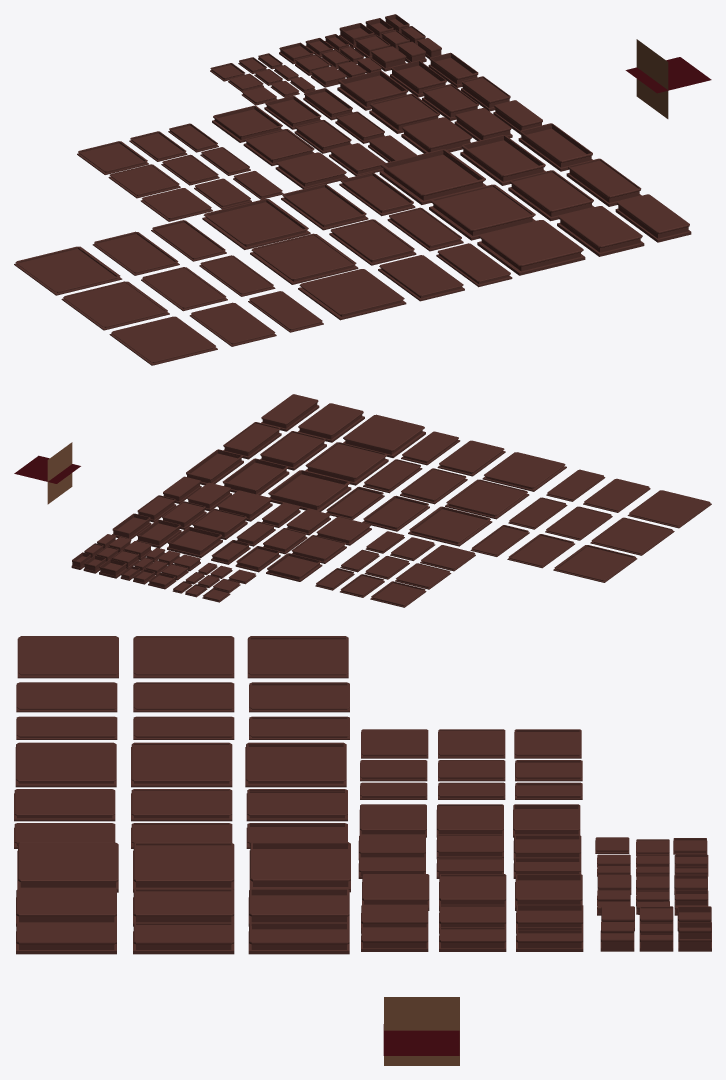
File: MuseumPedestalsFinal.fbx
3 views of the same model, one above another, from view 1: azimuth 30°, elevation 25°; view 2: azimuth 150°, elevation 25°; view 3: azimuth 270°, elevation 25° (orthographic). The views are drawn at different scales.
Visible parts, largest first — view 1: PedestalWideFlat.002, PedestalWideDeep.002, PedestalWide.002, PedestalWide.003, PedestalWideDeep.003, PedestalWideFlat.003, PedestalWideDeep.004, PedestalWide.004, PedestalWideFlat.004, PedestalFlat.002, Pedestal.002, PedestalDeep.002 (+45 smaller); view 2: PedestalWideDeep.002, PedestalWide.002, PedestalWideFlat.002, PedestalWide.003, PedestalWideDeep.003, PedestalWideFlat.003, PedestalWide.004, PedestalWideFlat.004, PedestalWideDeep.004, PedestalFlat.002, Pedestal.002, PedestalDeep.002 (+45 smaller); view 3: PedestalWide.002, PedestalWideDeep.002, PedestalWideFlat.002, PedestalWide.003, PedestalWideDeep.003, PedestalWideFlat.003, PedestalWide.004, PedestalWideDeep.004, PedestalWideFlat.004, Pedestal.002, PedestalDeep.002, PedestalFlat.002 (+44 smaller).
Boxes of the visible parts, x1,y1,x2,y2 form: PedestalWideFlat.002: (477,220,585,275); PedestalWideDeep.002: (379,149,486,204); PedestalWide.002: (429,184,535,240); PedestalWide.003: (250,233,358,284); PedestalWideDeep.003: (202,199,310,249); PedestalWideFlat.003: (298,269,406,320); PedestalWideDeep.004: (14,246,122,295); PedestalWide.004: (61,281,169,330); PedestalWideFlat.004: (109,316,217,365); PedestalFlat.002: (557,206,644,256); Pedestal.002: (508,170,594,221); PedestalDeep.002: (460,135,545,185); PedestalWideDeep.002: (268,470,351,511); PedestalWide.002: (305,442,388,485); PedestalWideFlat.002: (343,414,425,457); PedestalWide.003: (445,479,529,519); PedestalWideDeep.003: (408,506,492,546); PedestalWideFlat.003: (482,452,566,491); PedestalWide.004: (590,517,674,555); PedestalWideFlat.004: (627,490,711,528); PedestalWideDeep.004: (553,545,637,582); PedestalFlat.002: (298,403,364,442); Pedestal.002: (260,431,326,470); PedestalDeep.002: (222,458,289,495); PedestalWide.002: (133,842,234,892); PedestalWideDeep.002: (249,842,350,892); PedestalWideFlat.002: (17,842,118,892); PedestalWide.003: (131,742,232,787); PedestalWideDeep.003: (245,742,346,787); PedestalWideFlat.003: (15,742,116,787); PedestalWide.004: (133,636,234,678); PedestalWideDeep.004: (247,636,348,678); PedestalWideFlat.004: (17,636,118,678); Pedestal.002: (133,888,234,926); PedestalDeep.002: (248,888,349,926); PedestalFlat.002: (16,888,116,926).
Size of the model in its own units: 12641 by 975 by 8940.
